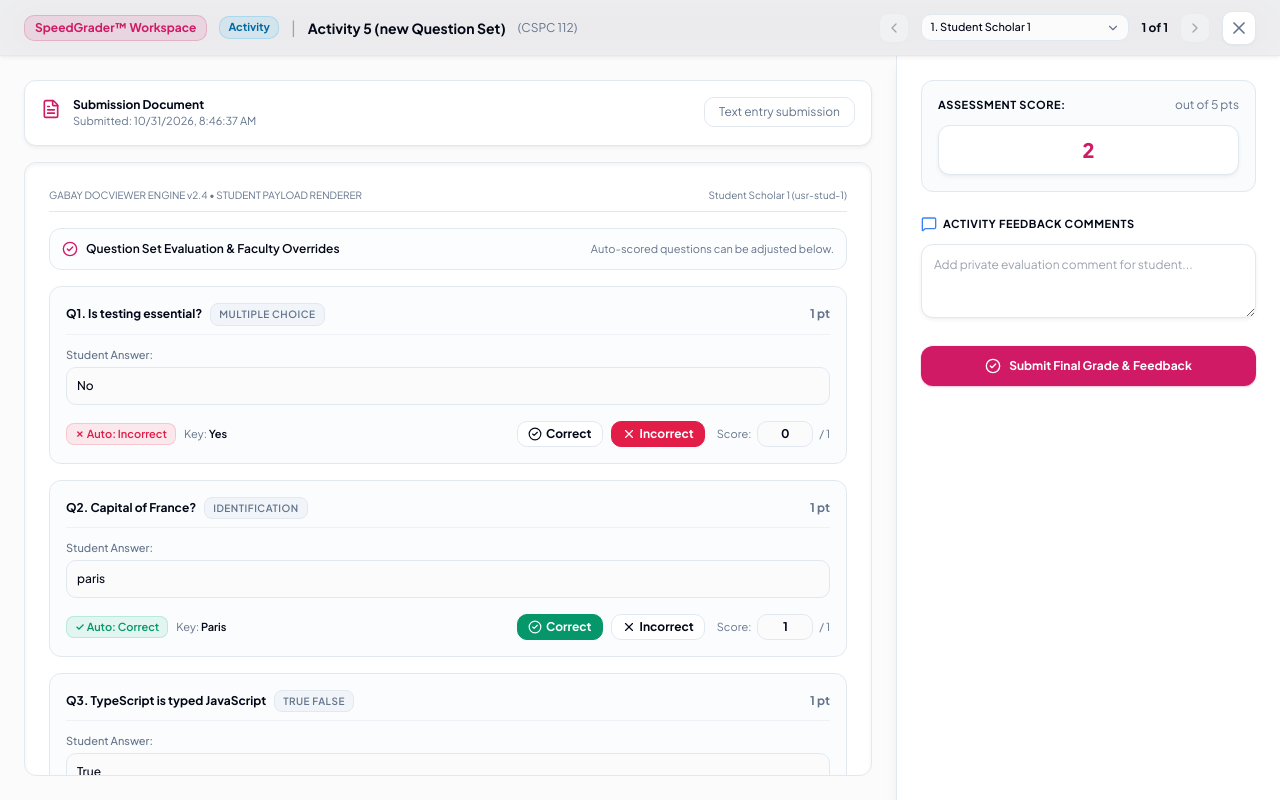
SpeedGrader Question Set Grading & Correction › allows faculty to correct an auto-graded question and updates total score
The width and height of the screenshot is (1280, 800).
Note: Q1 was answered 'No' (key: 'Yes'). Faculty wants to mark Q1 as Correct.
Click the button with test id "question-correct-btn-q-1": (560, 434) top-left (517, 420), bottom-right (603, 446)
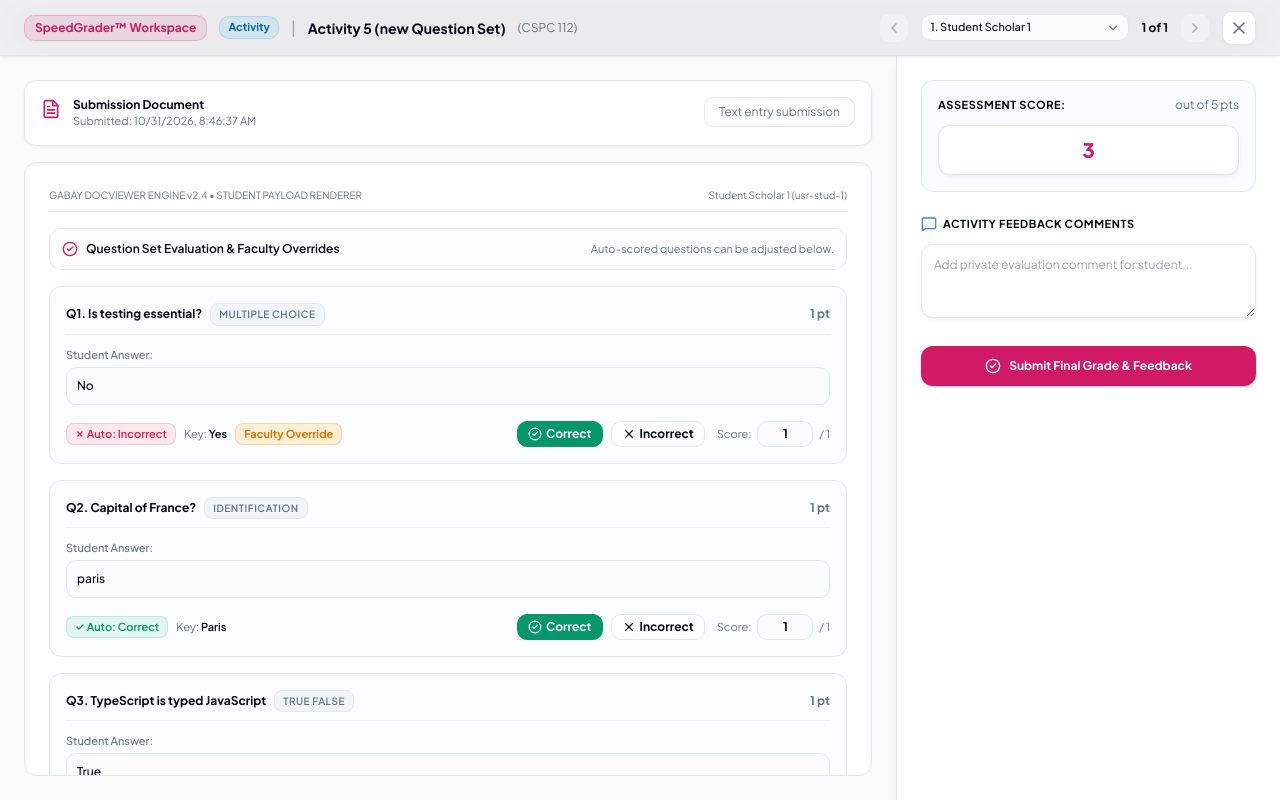
expect the number field named "grade" holds "3": met, box top-left (938, 125), bottom-right (1239, 175)
expect the text "Faculty Override" is shown: met, box top-left (235, 422), bottom-right (342, 444)
